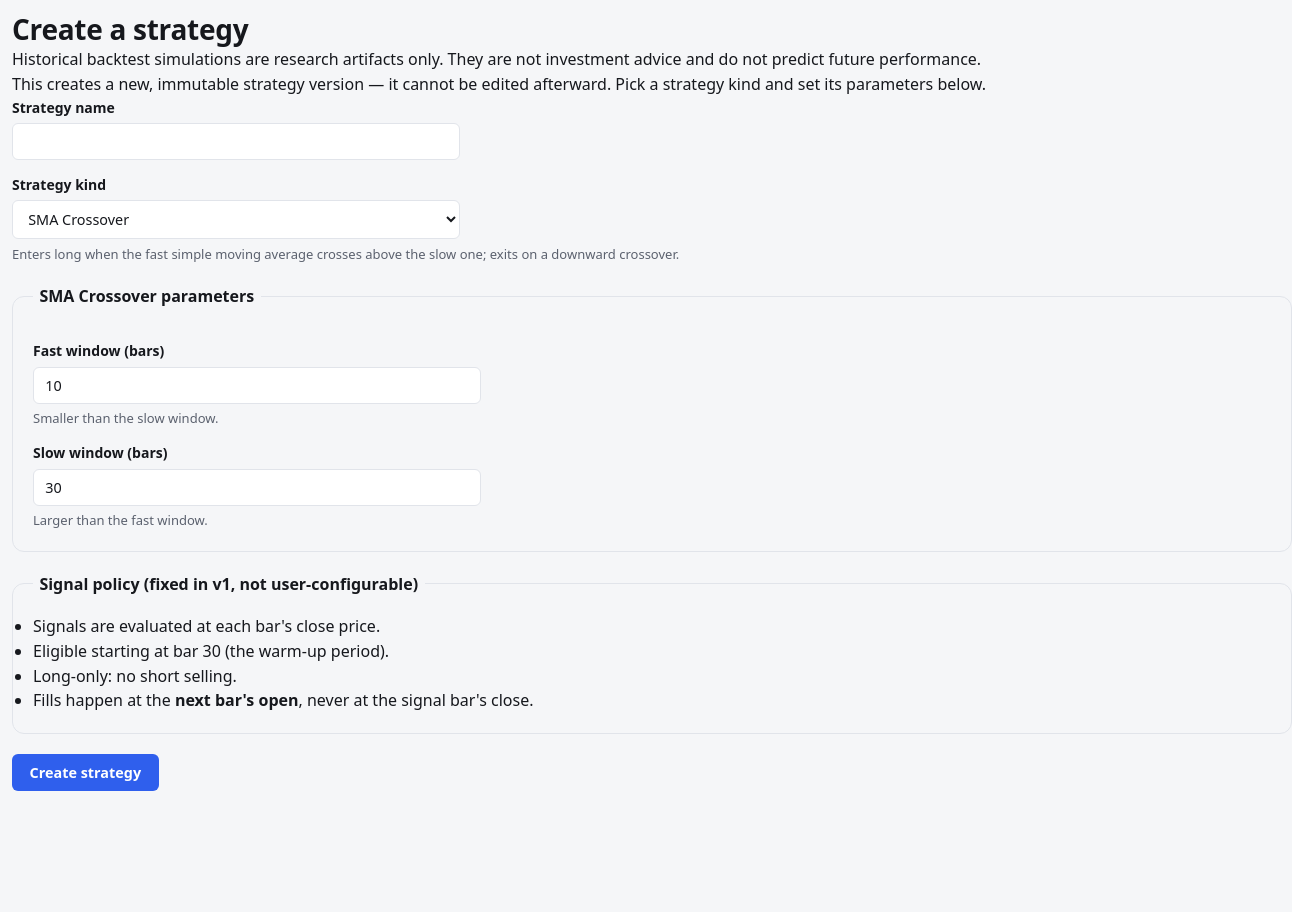
Scenario: NewStrategyPage › rejects decimal window values client-side
This screenshot has width=1292, height=912.
Step 1. Type "Test" into the field labelled "Strategy name" → [236, 142], box x1=12 y1=123 x2=460 y2=160
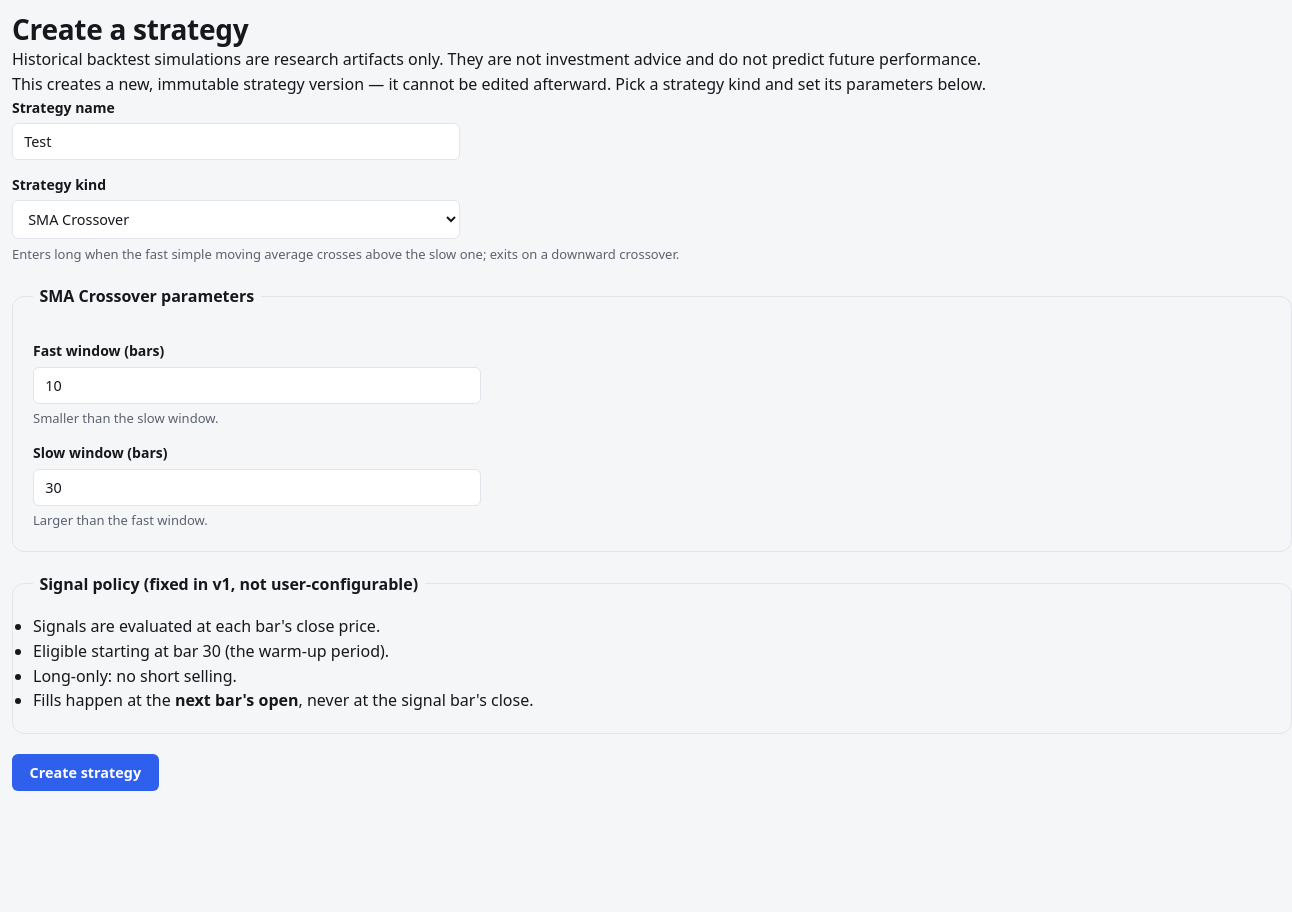
Step 2. Replace the text in the field labelled "Fast window (bars)" with "2.5" → [257, 385], box x1=33 y1=367 x2=481 y2=404
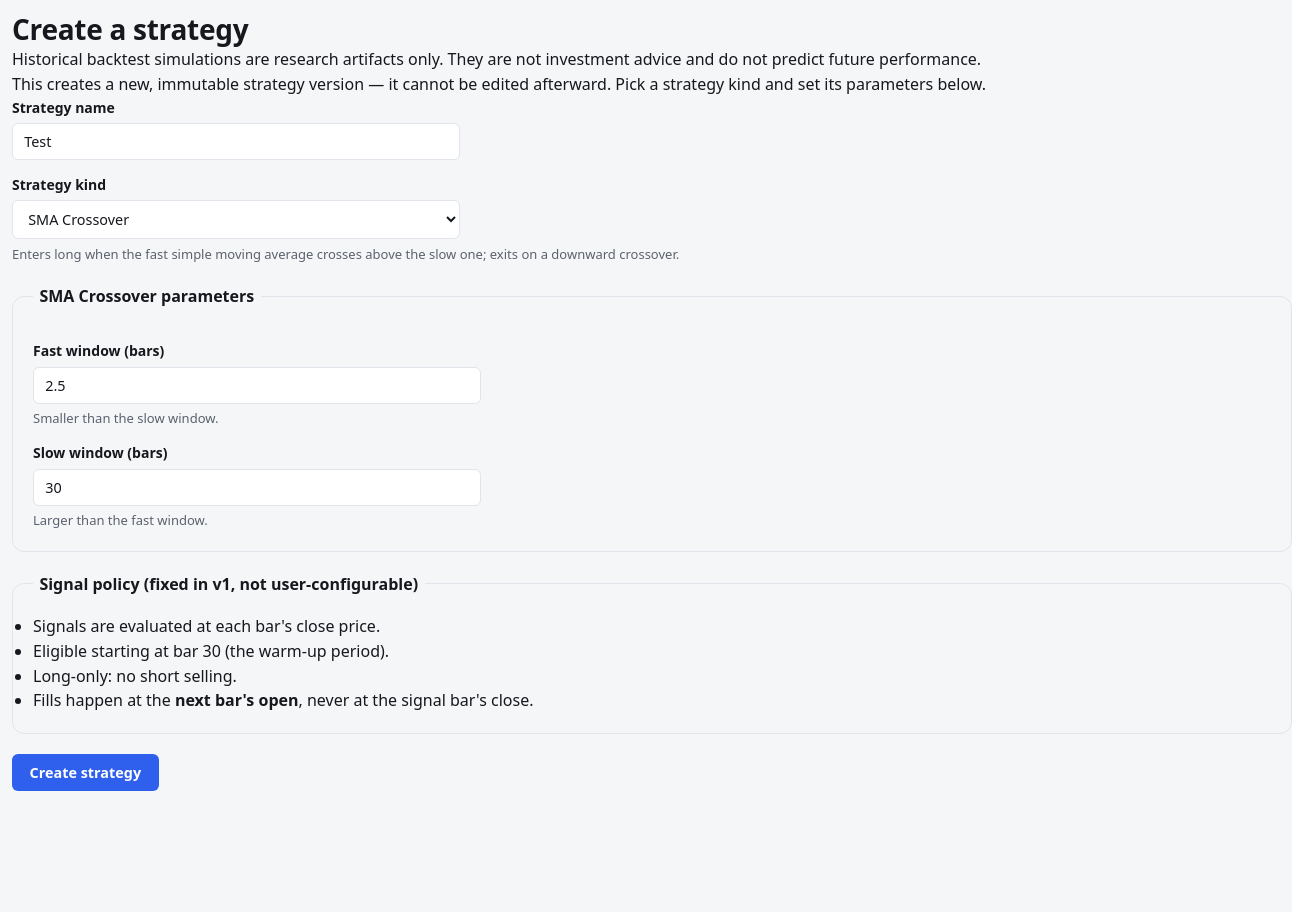
Step 3. Click the button "Create strategy" → [85, 772], box x1=12 y1=754 x2=159 y2=791
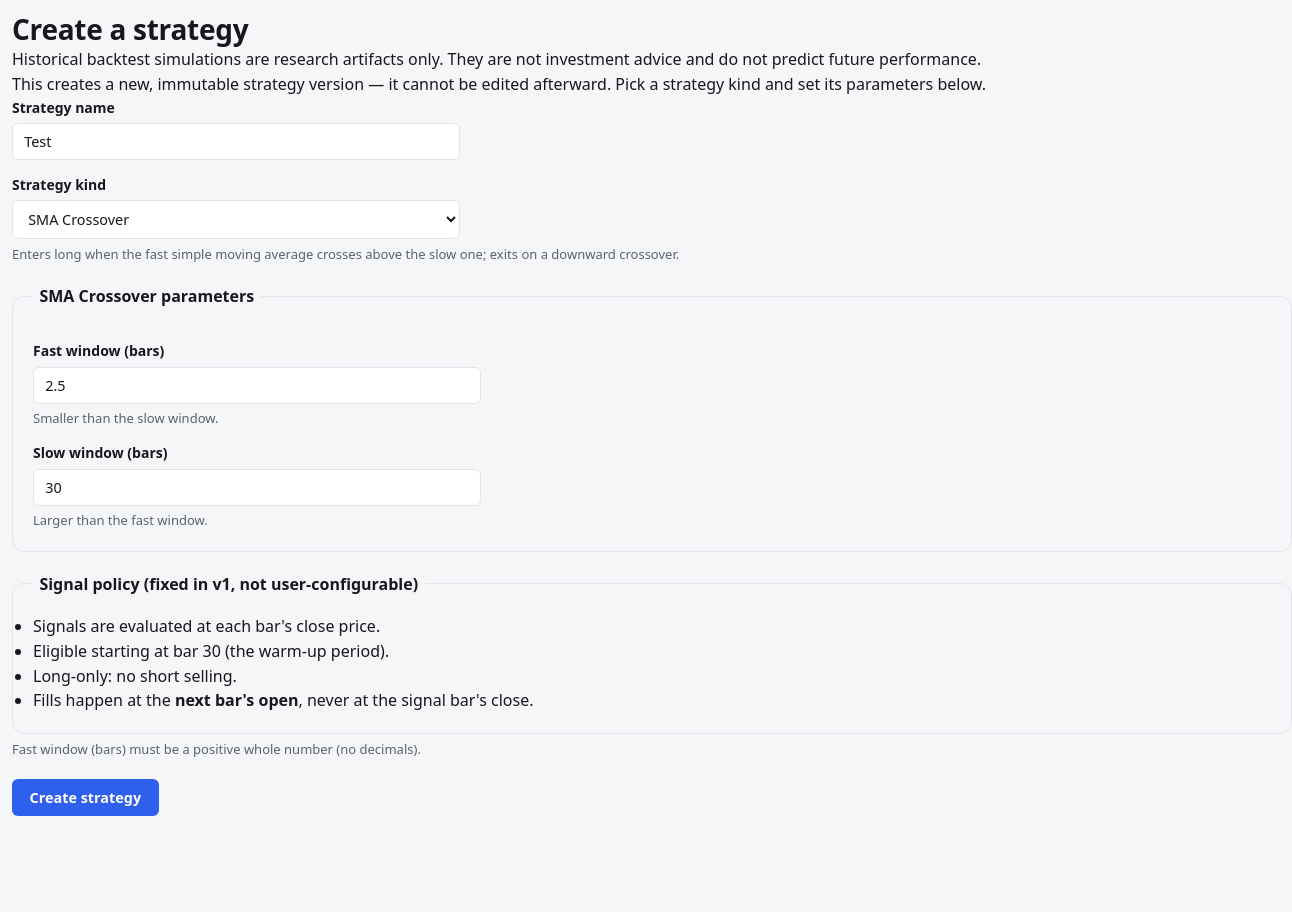
Expected: the message shows "whole number", x1=12 y1=740 x2=421 y2=758
